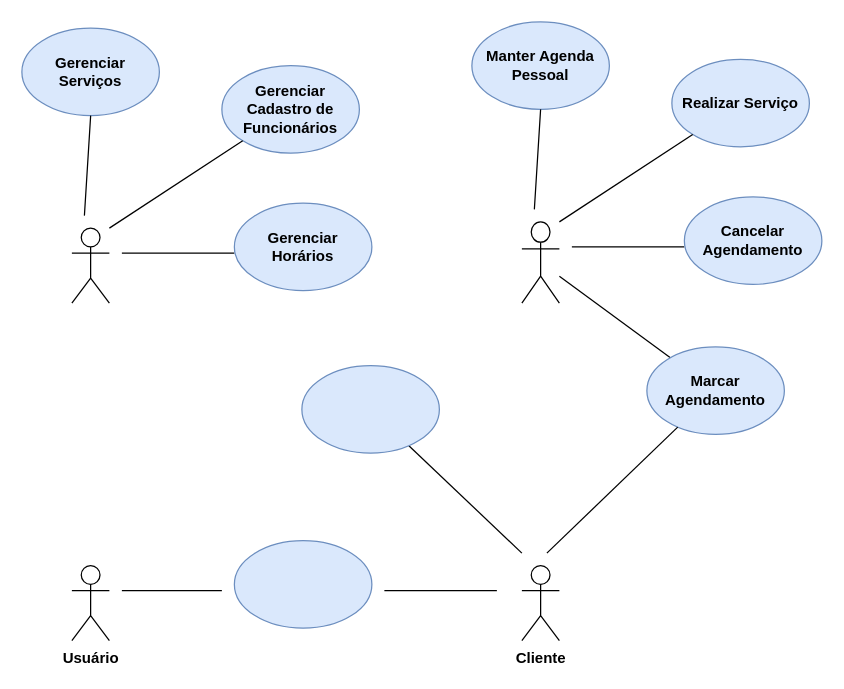
The diagram is 844 pixels wide and 689 high, and some of its shapes have lost their labels. The shapes that lost their labels are listed below. From the top down, each one's centre as x and y in pixels, then its label:
[90,265]: Adm
[540,262]: Funcionário
[370,408]: Gerenciar Cadastro de Clientes
[302,583]: Consultar Serviços
